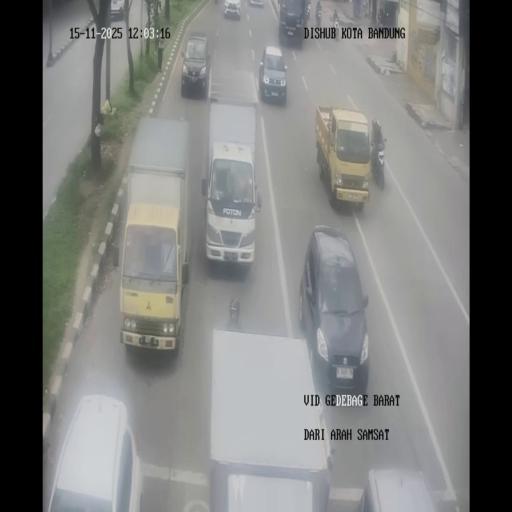3: (207, 332, 332, 511), (118, 116, 191, 352), (202, 100, 261, 271), (314, 104, 372, 211), (278, 1, 310, 46)
car: (299, 228, 370, 398), (46, 394, 141, 511), (181, 31, 211, 100), (258, 45, 287, 105), (224, 0, 242, 20), (109, 0, 124, 21), (306, 0, 311, 19)
truck: (369, 124, 386, 189), (332, 12, 340, 41), (315, 5, 322, 25), (377, 7, 384, 24)
